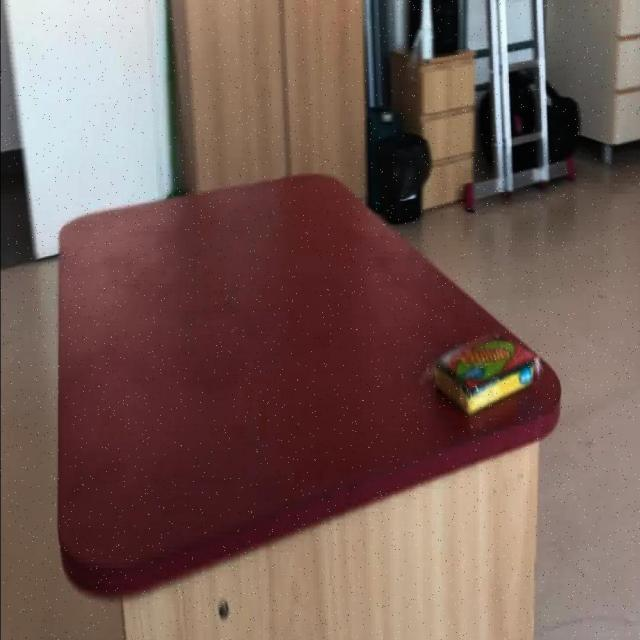Sponge: (57, 173, 563, 599), (387, 50, 478, 214), (422, 333, 540, 417)
